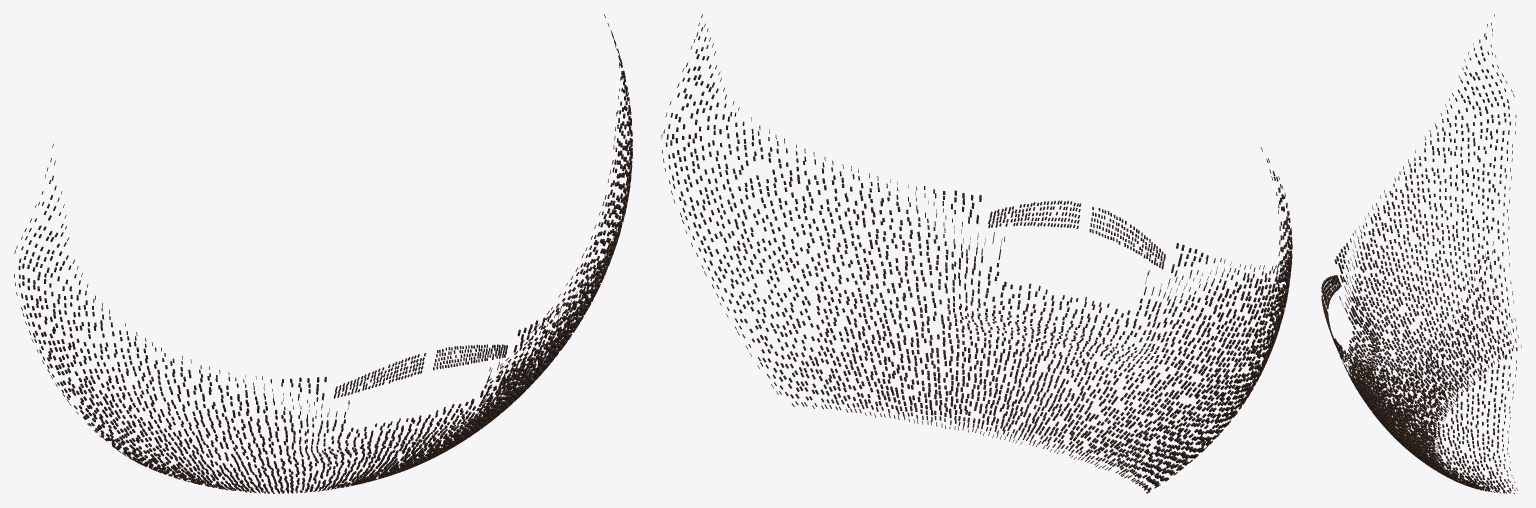
The model's file is Masculine-taper-groom.glb.
The picture shows the model from 3 angles, left to right: view 1: azimuth 30°, elevation 25°; view 2: azimuth 150°, elevation 25°; view 3: azimuth 270°, elevation 25°; orthographic projection. The views are drawn at different scales.
Parts seen in each view (by area): view 1: Groom / clean stubble184, Groom / upper lip stubble191; view 2: Groom / clean stubble184, Groom / upper lip stubble191; view 3: Groom / clean stubble184, Groom / upper lip stubble191.
Boxes of the visible parts, <box> form: Groom / clean stubble184: <box>14,14,632,493</box>; Groom / upper lip stubble191: <box>333,344,507,398</box>; Groom / clean stubble184: <box>661,14,1292,493</box>; Groom / upper lip stubble191: <box>988,200,1165,269</box>; Groom / clean stubble184: <box>1334,14,1521,493</box>; Groom / upper lip stubble191: <box>1321,275,1341,354</box>.
Size of the model in its own units: 0.9524 by 0.5773 by 0.3275.
